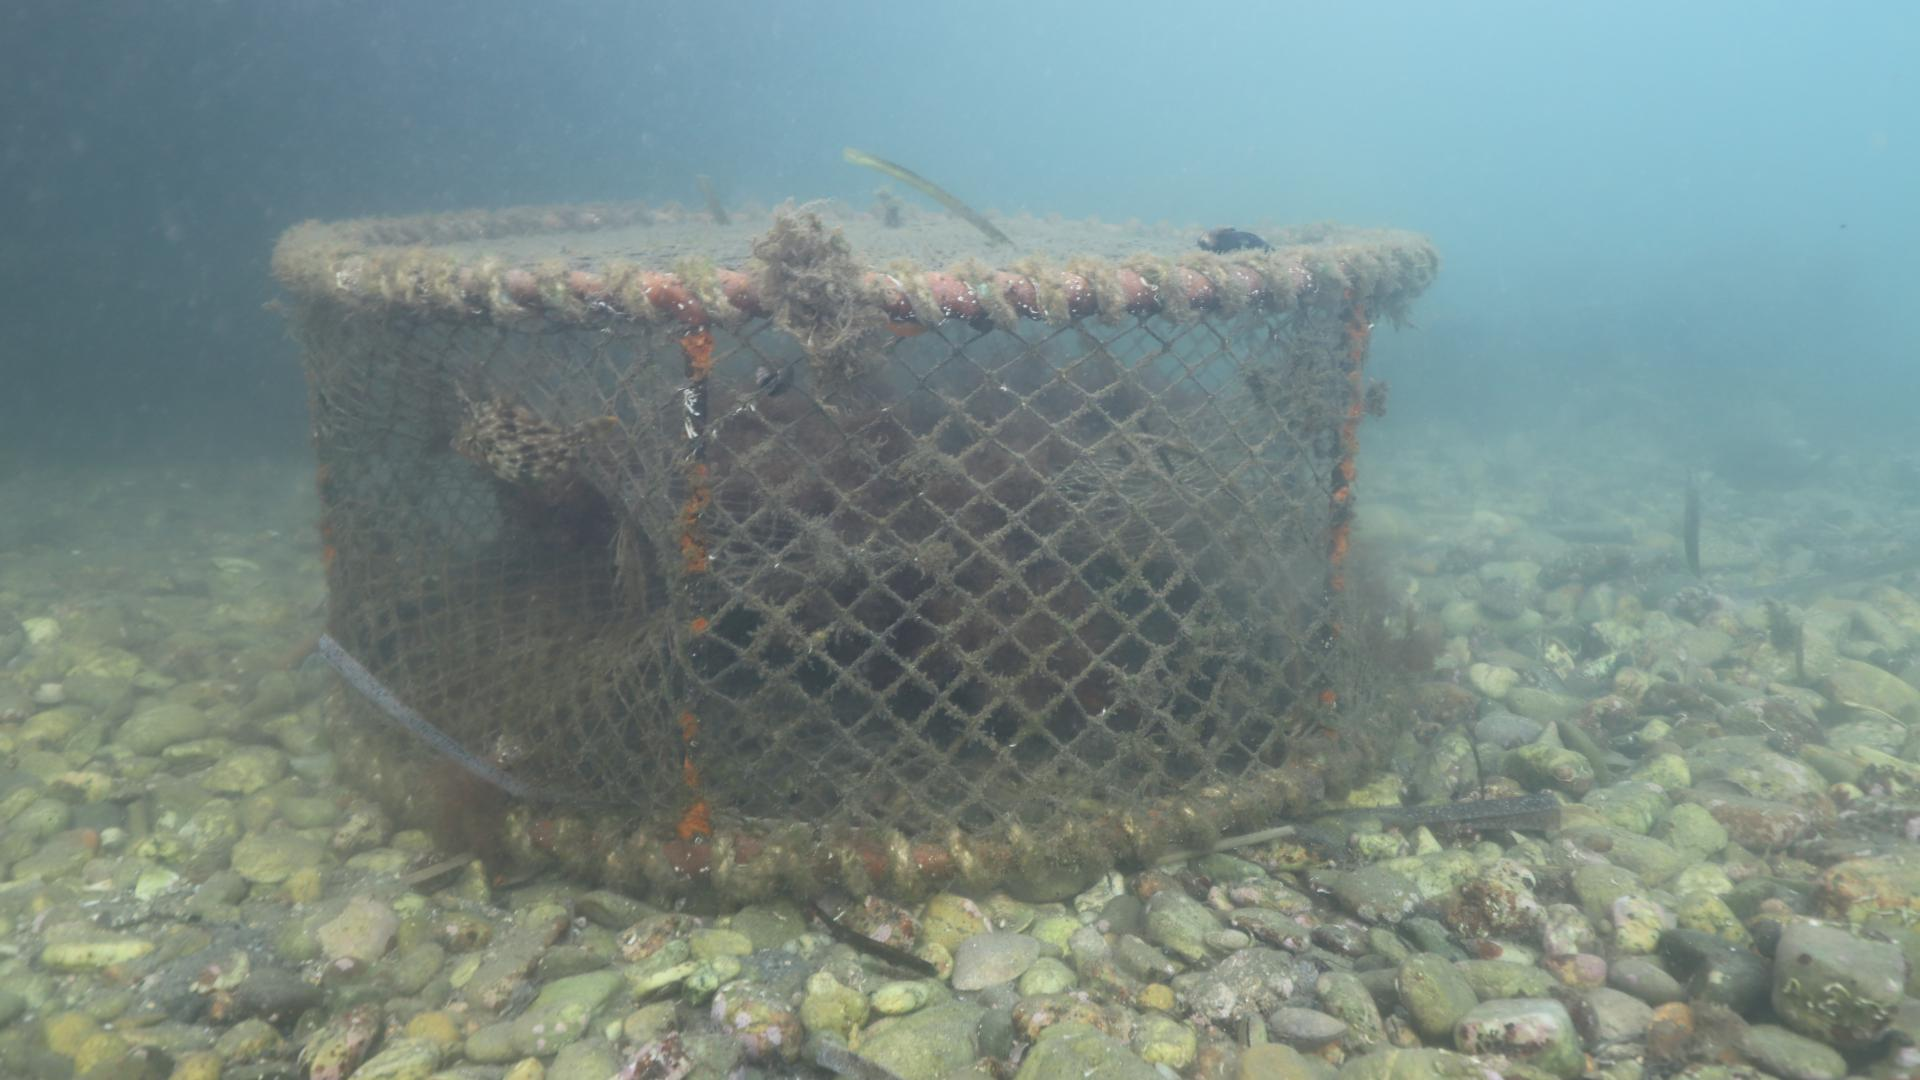circular fish trap: (264, 194, 1437, 905)
